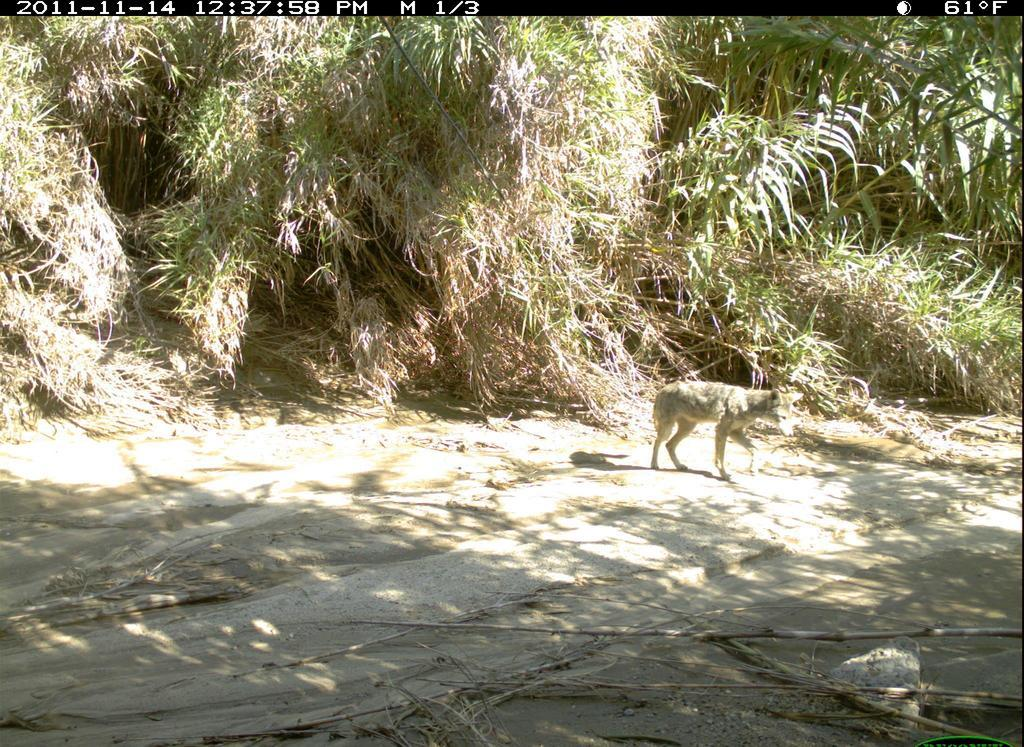coyote: (637, 367, 813, 498)
